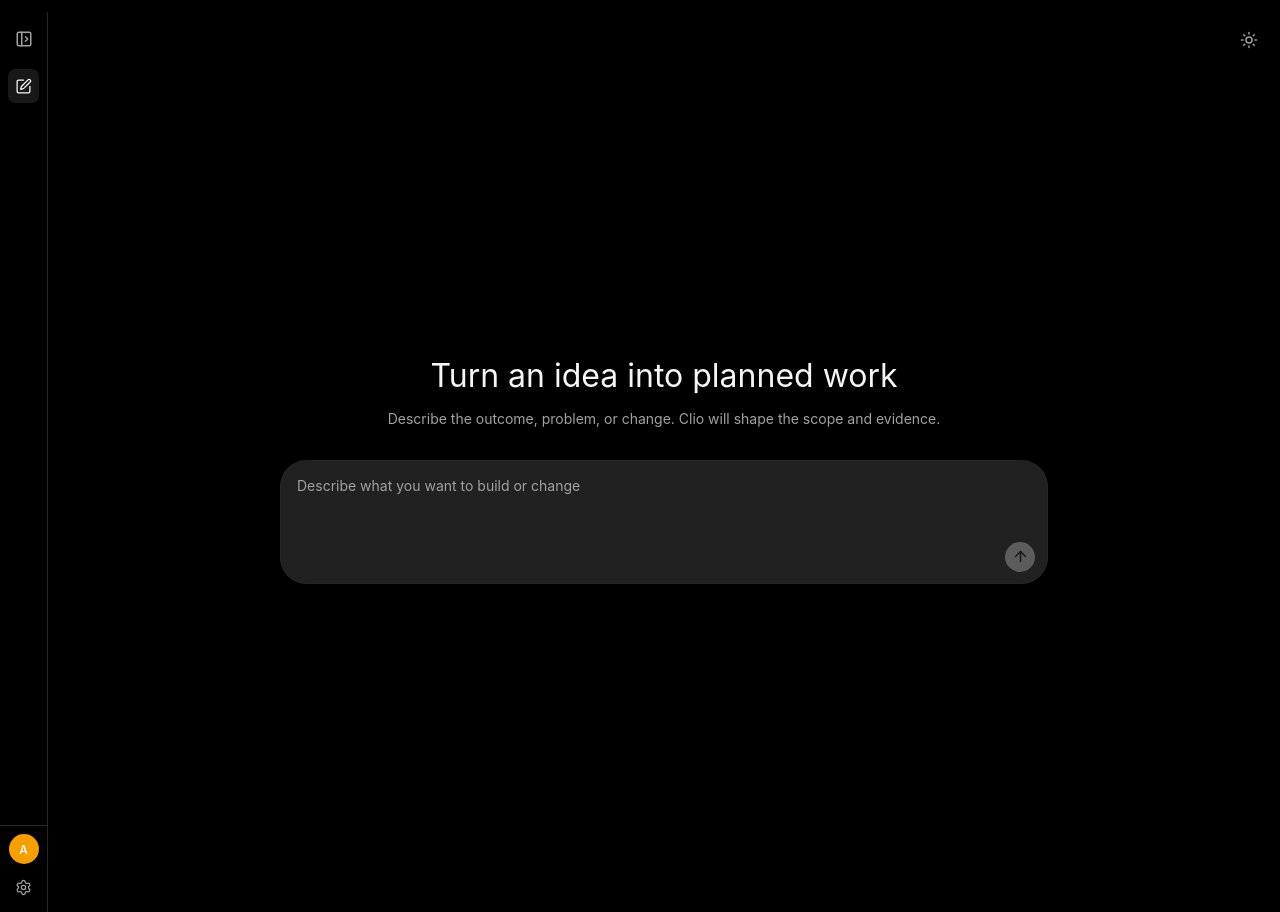
it: App › boots compact navigation with a focused first-run chat
Expected: the button named "New Chat" is shown, 8,69 -> 39,103
Click the button named "Expand sidebar" at x=24, y=38, box 9,24 -> 39,54
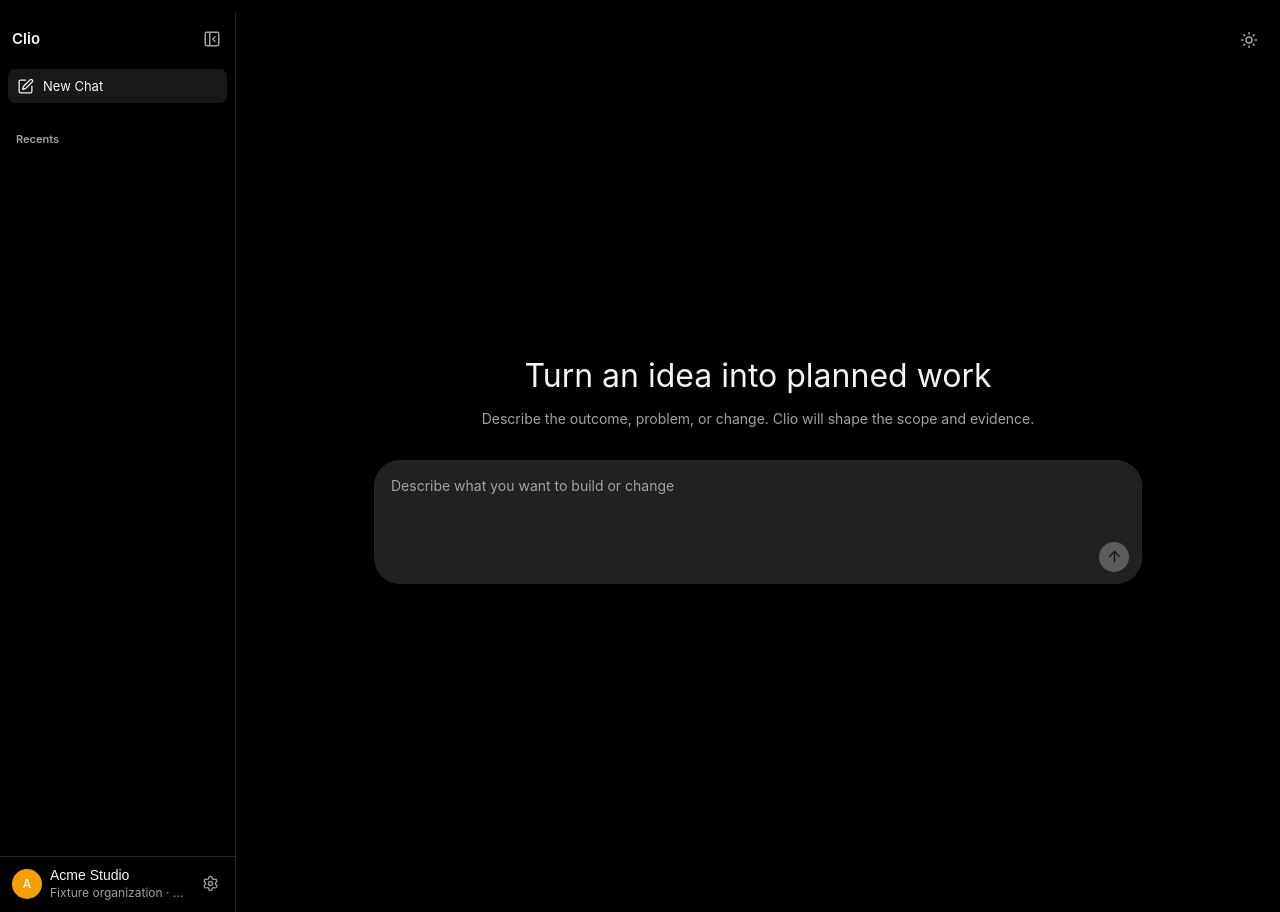
Expected: the button "Knowledge Base" is not shown
Now the text "Fixture organization · M1" is shown, box 50,885 -> 187,900
Click the button named "Settings" at x=210, y=884, box 195,868 -> 225,898
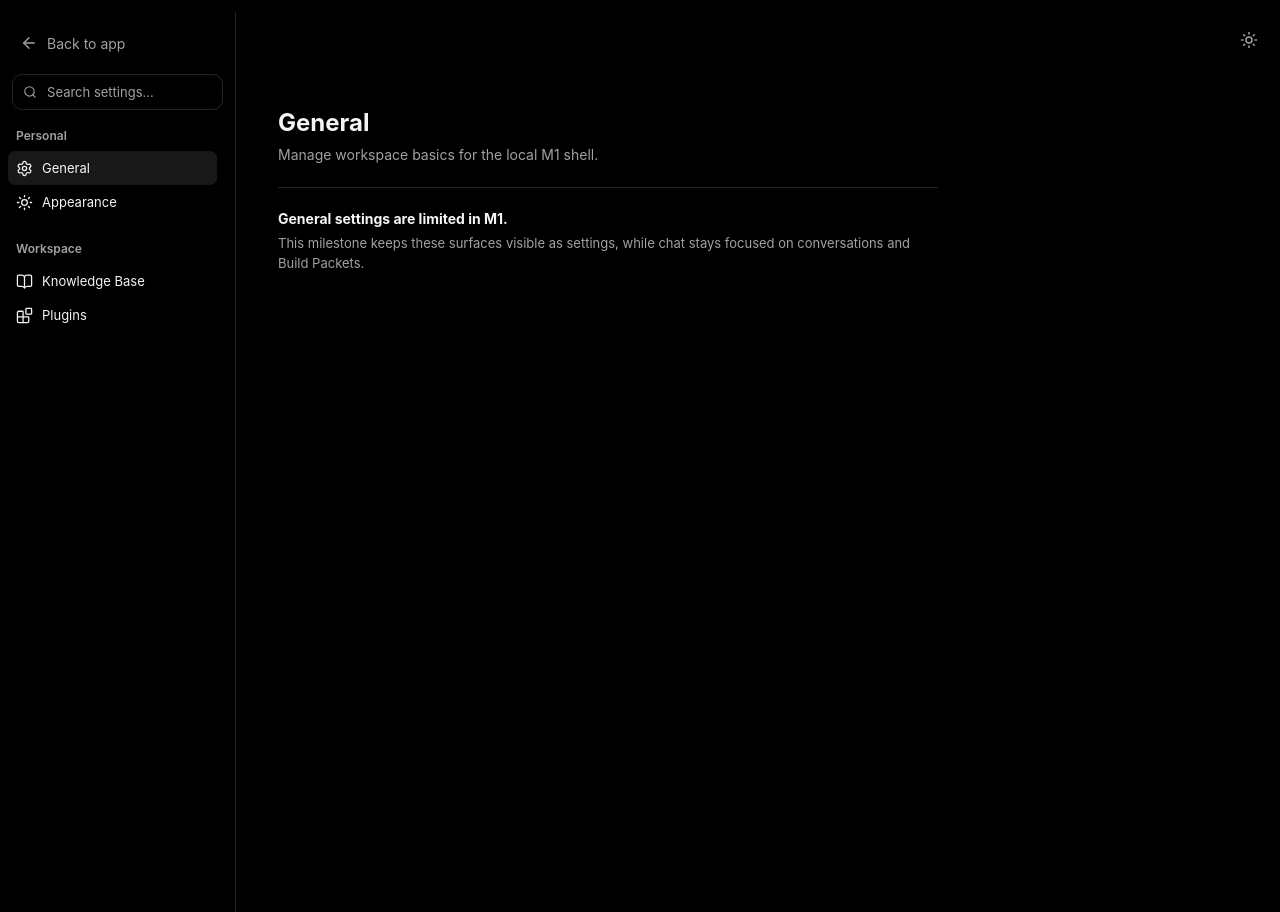
Now the button "Back to app" is shown, box 12,27 -> 223,59
Now the search field labelled "Search settings" is shown, box 45,83 -> 212,101
Now the button "New Chat" is gone
